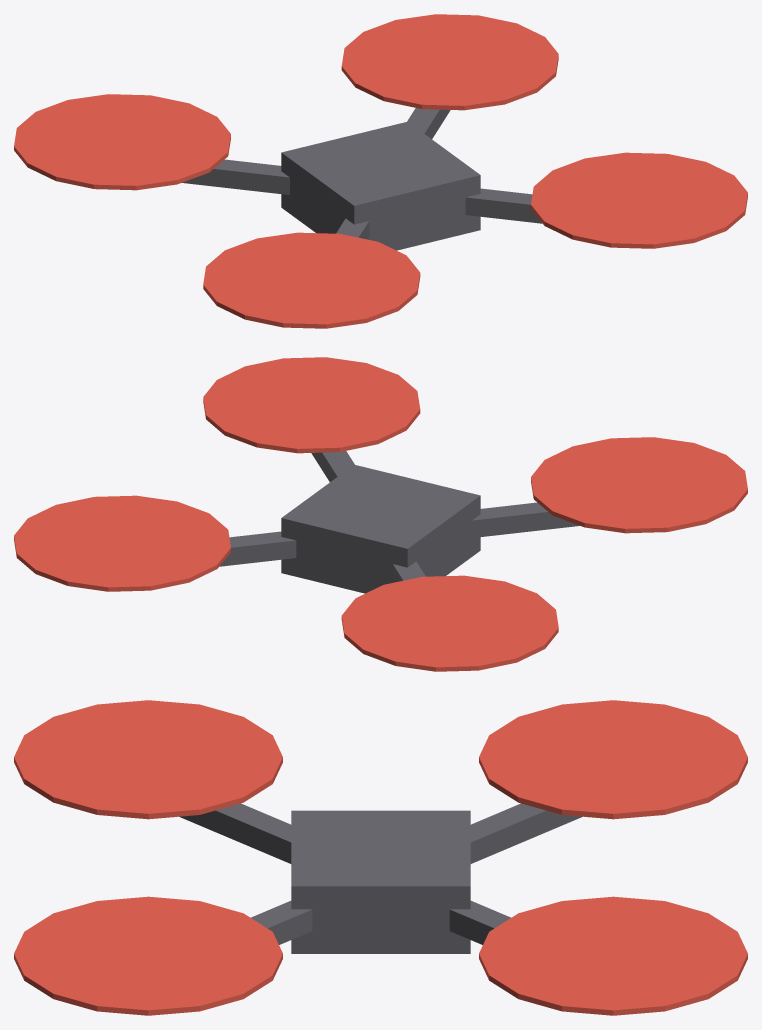
Rendered from quad.glb.
The picture shows the model from 3 angles, top to bottom: view 1: azimuth 30°, elevation 25°; view 2: azimuth 150°, elevation 25°; view 3: azimuth 270°, elevation 25°; orthographic projection. The views are drawn at different scales.
Bounding box in the file's own units: 2.46 × 0.25 × 2.46.
